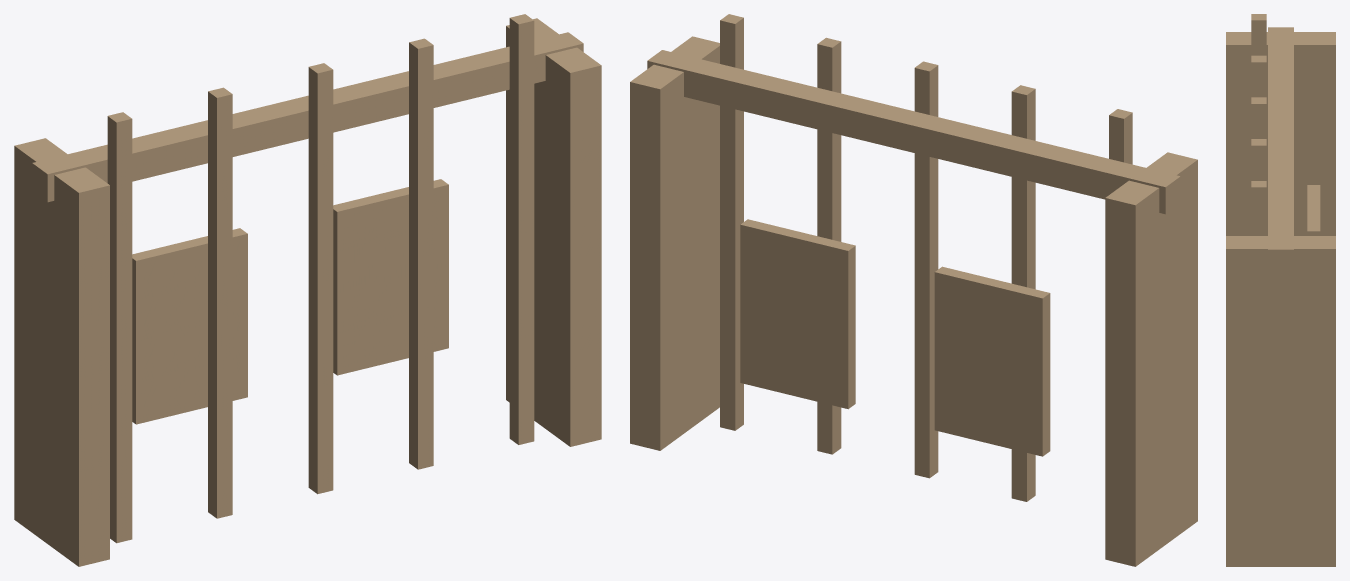
Rendered from weapon_rack.glb.
3 renders of one model, left to right at view 1: azimuth 30°, elevation 25°; view 2: azimuth 150°, elevation 25°; view 3: azimuth 270°, elevation 25°, orthographic. The views are drawn at different scales.
Parts seen in each view (by area): view 1: rack_leg_w, rack_leg_e, rack_bar, rack_shield_a, rack_shield_b, rack_spear_2, rack_spear_4, rack_spear_3, rack_spear_1, rack_spear_0; view 2: rack_leg_w, rack_leg_e, rack_bar, rack_shield_a, rack_shield_b, rack_spear_2, rack_spear_4, rack_spear_1, rack_spear_3, rack_spear_0; view 3: rack_leg_e, rack_leg_w, rack_bar, rack_spear_4, rack_shield_a, rack_spear_1, rack_spear_0, rack_spear_2, rack_spear_3.
Boxes of the visible parts, x1,y1,x2,y2 form: rack_leg_w: [14, 138, 109, 566]; rack_leg_e: [506, 18, 601, 446]; rack_bar: [32, 32, 583, 202]; rack_shield_a: [132, 228, 247, 424]; rack_shield_b: [333, 179, 448, 375]; rack_spear_2: [308, 63, 333, 494]; rack_spear_4: [509, 14, 534, 444]; rack_spear_3: [409, 38, 433, 469]; rack_spear_1: [208, 87, 232, 518]; rack_spear_0: [107, 112, 132, 543]; rack_leg_w: [1105, 152, 1197, 566]; rack_leg_e: [630, 36, 719, 450]; rack_bar: [647, 50, 1180, 214]; rack_shield_a: [934, 266, 1050, 456]; rack_shield_b: [740, 219, 855, 409]; rack_spear_2: [914, 61, 938, 478]; rack_spear_4: [720, 14, 743, 430]; rack_spear_1: [1011, 85, 1035, 501]; rack_spear_3: [817, 37, 841, 454]; rack_spear_0: [1109, 109, 1132, 164]; rack_leg_e: [1226, 236, 1335, 566]; rack_leg_w: [1226, 32, 1335, 235]; rack_bar: [1268, 27, 1293, 273]; rack_spear_4: [1251, 181, 1266, 235]; rack_shield_a: [1307, 185, 1320, 235]; rack_spear_1: [1251, 55, 1266, 97]; rack_spear_0: [1251, 14, 1266, 55]; rack_spear_2: [1251, 97, 1266, 138]; rack_spear_3: [1251, 139, 1266, 180].
Size of the model in its own units: 2.4 by 1.8 by 0.5.
